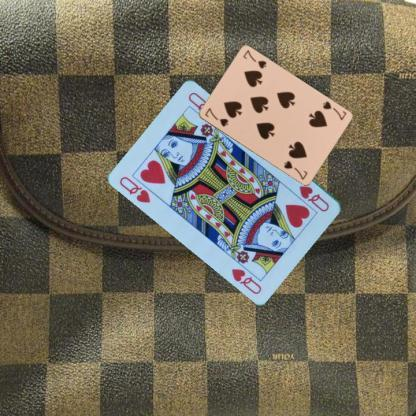7s: (320, 98, 348, 122), (203, 105, 230, 128)
Qh: (297, 182, 331, 214), (117, 174, 152, 204)
